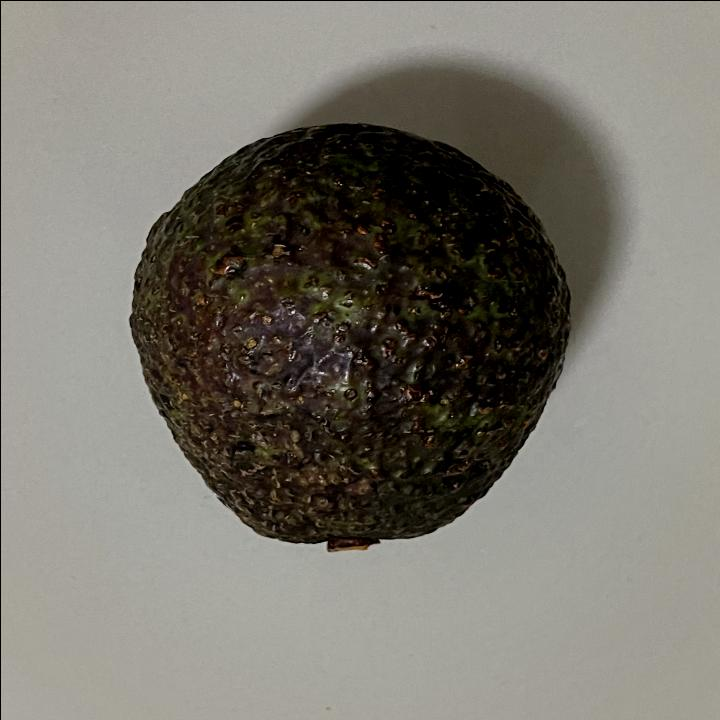Level1: (112, 114, 582, 568)
